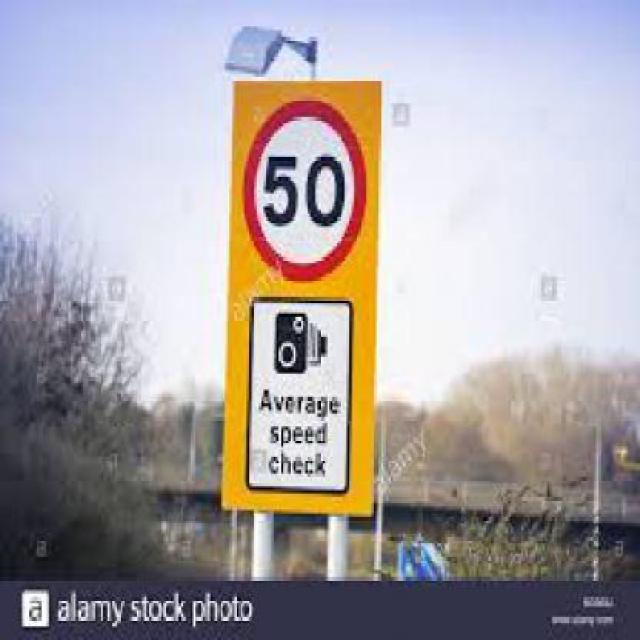Speed limit 50: (239, 92, 372, 281)
